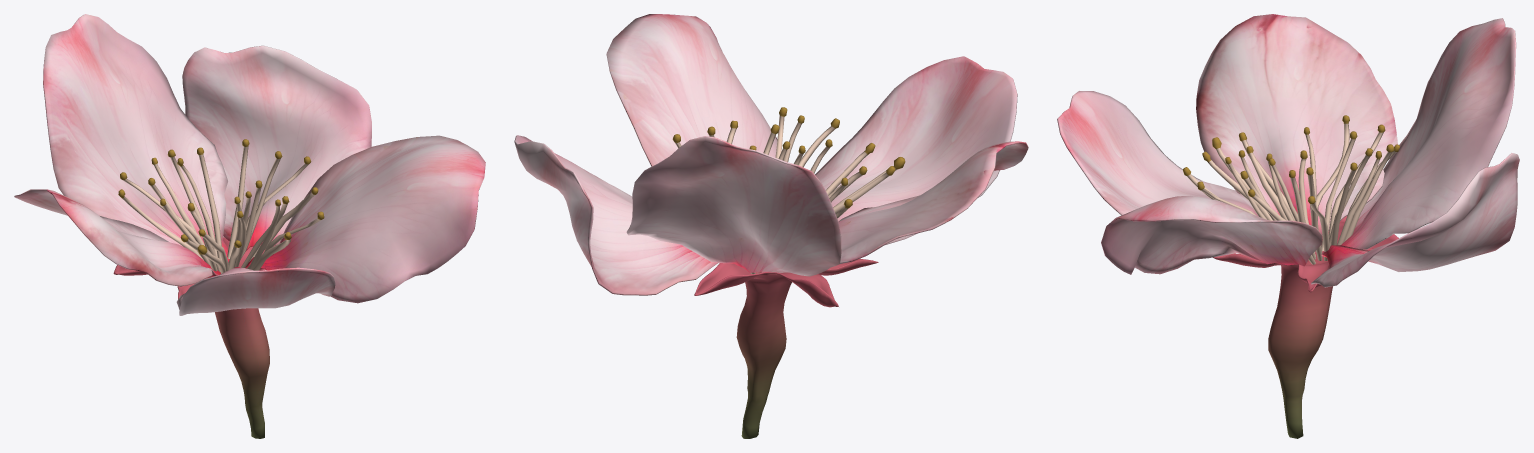
The model's file is SakuraFlower.glb.
3 renders of one model, left to right at view 1: azimuth 30°, elevation 25°; view 2: azimuth 150°, elevation 25°; view 3: azimuth 270°, elevation 25°, orthographic. The views are drawn at different scales.
Visible parts, largest first — view 1: OBJ_Sakura_Flowers; view 2: OBJ_Sakura_Flowers; view 3: OBJ_Sakura_Flowers.
Part boxes in pixels (x1=…): OBJ_Sakura_Flowers: x1=14, y1=14, x2=485, y2=438; OBJ_Sakura_Flowers: x1=514, y1=14, x2=1028, y2=438; OBJ_Sakura_Flowers: x1=1057, y1=14, x2=1519, y2=438.
Size of the model in its own units: 0.0435 by 0.0391 by 0.0441.
1 material, 1 textured.
